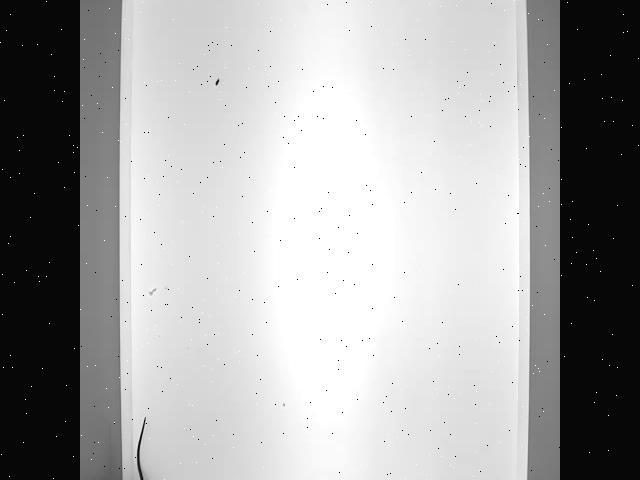Tikus: (120, 414, 157, 480)
